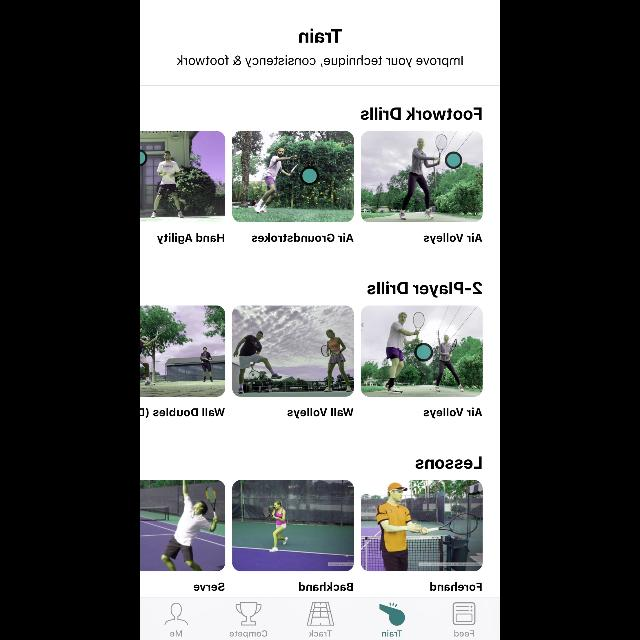icon: (306, 602, 334, 626), (236, 602, 262, 626), (380, 602, 404, 626), (452, 602, 476, 624), (165, 603, 188, 625)
image: (232, 481, 354, 572), (232, 306, 354, 396), (361, 306, 483, 396), (232, 132, 354, 222), (362, 481, 482, 572), (362, 132, 482, 222), (140, 481, 226, 572), (140, 306, 226, 396), (141, 132, 225, 222)
text: (177, 55, 463, 67), (368, 281, 482, 297), (361, 106, 482, 120), (252, 232, 354, 242), (140, 408, 224, 418), (158, 232, 225, 244), (416, 457, 482, 469), (424, 232, 482, 244), (287, 408, 353, 418), (298, 29, 342, 43), (424, 408, 482, 418), (299, 583, 353, 591), (431, 583, 482, 591), (230, 630, 268, 638), (193, 583, 224, 591), (308, 630, 332, 636), (454, 630, 474, 636), (382, 630, 402, 636), (170, 630, 182, 636)
